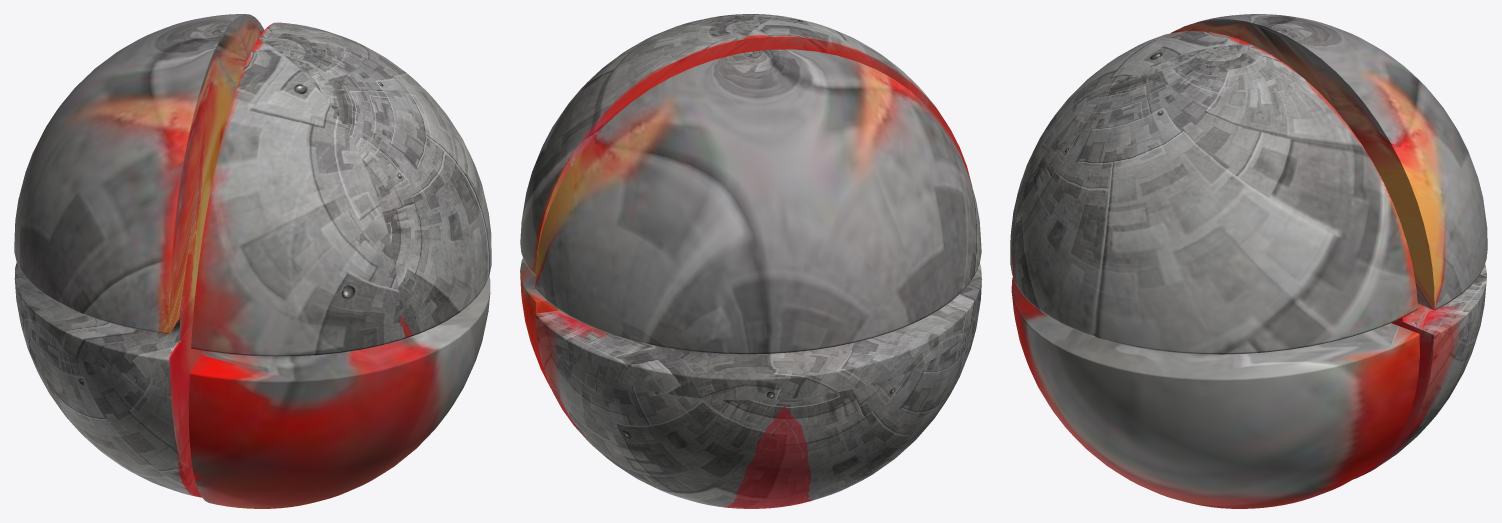
The model's file is Drone166_000002.obj.
3 views of the same model, side by side, from view 1: azimuth 30°, elevation 25°; view 2: azimuth 150°, elevation 25°; view 3: azimuth 270°, elevation 25° (orthographic).
Visible parts, largest first — view 1: Sphere.001_Sphere.005, Sphere.000_Sphere.004; view 2: Sphere.000_Sphere.004, Sphere.001_Sphere.005; view 3: Sphere.001_Sphere.005, Sphere.000_Sphere.004.
Boxes of the visible parts, box(x1,y1,x2,y2) form: Sphere.001_Sphere.005: box(189, 22, 491, 508); Sphere.000_Sphere.004: box(14, 14, 264, 497); Sphere.000_Sphere.004: box(534, 49, 981, 508); Sphere.001_Sphere.005: box(520, 14, 971, 388); Sphere.001_Sphere.005: box(1010, 30, 1419, 508); Sphere.000_Sphere.004: box(1171, 14, 1487, 478).
Bounding box in the file's own units: 2.05 × 2.15 × 2.08.
4 materials, 4 textured.
